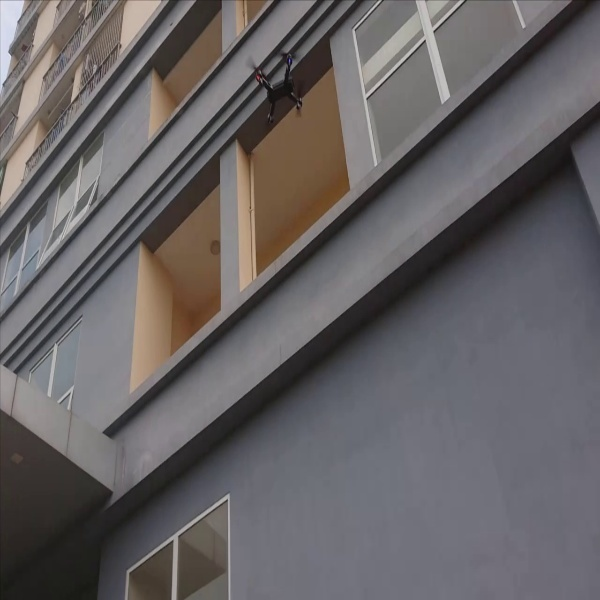drone: (244, 44, 314, 136)
